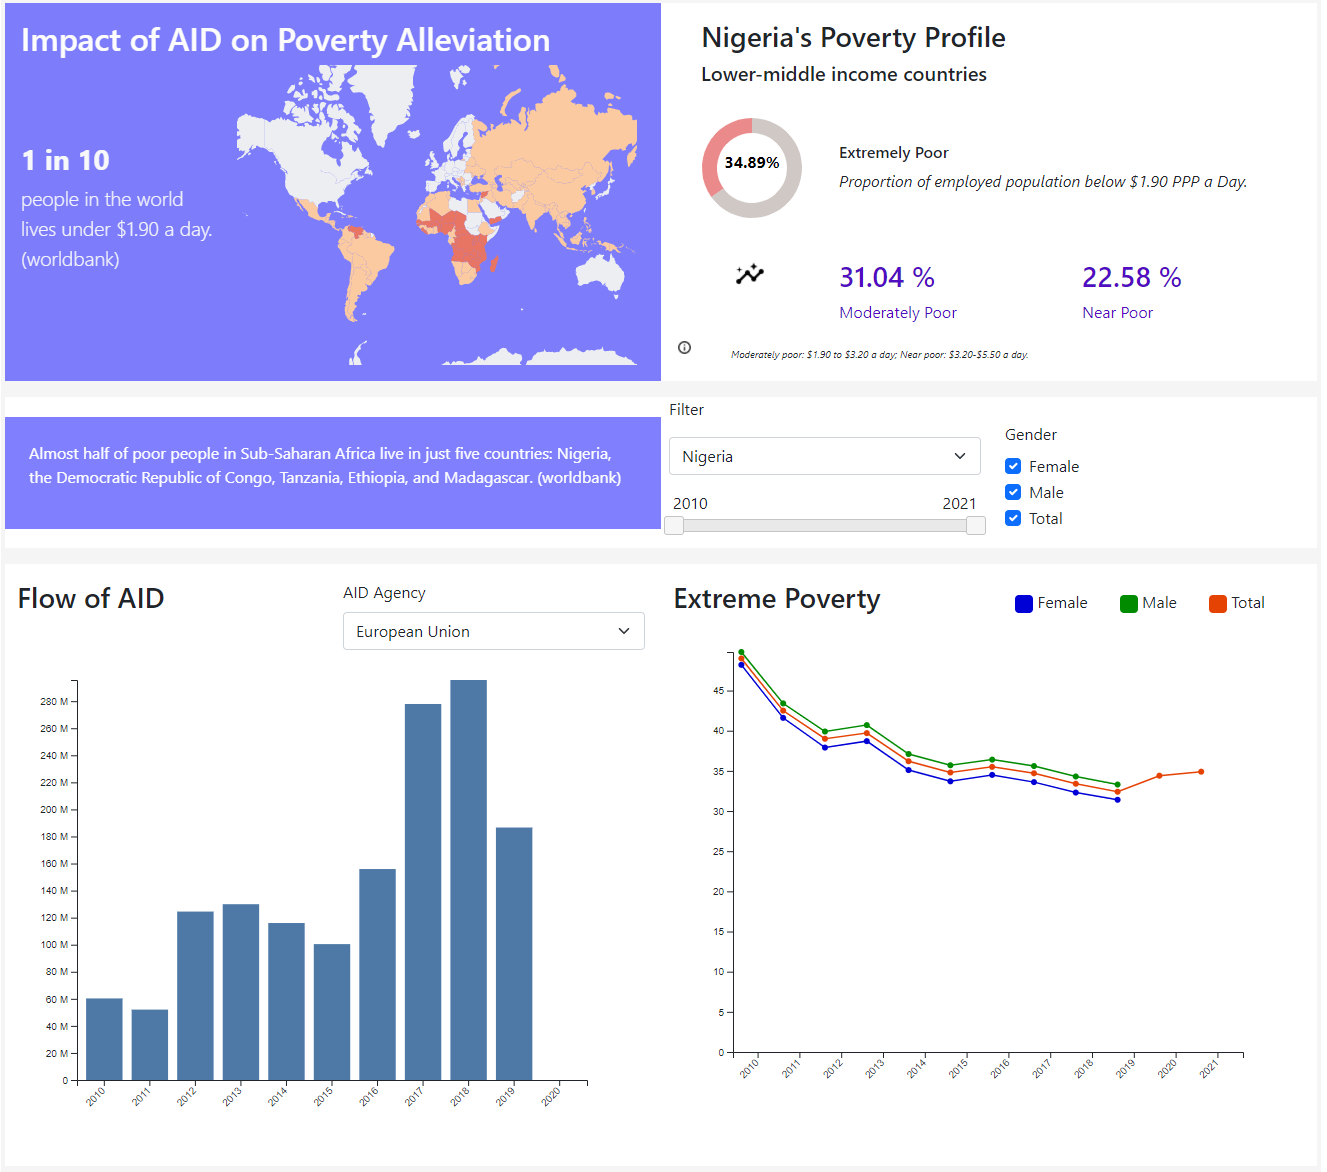

The page's visual inventory and layout, read from the dashboard file:
{"tool":"tableau","page":{"name":"Impact of AID on Poverty Alleviation ","canvas":[1024,768],"ordinal":0},"visuals":[{"type":"worksheet","title":"Country Name","mark":"Automatic","box":[557,17,420,77]},{"type":"text","box":[18,18,494,337]},{"type":"worksheet","title":"Income Group","mark":"Automatic","box":[560,60,341,49]},{"type":"text","box":[25,81,179,221]},{"type":"worksheet","title":"Poverty Cluster Map","mark":"Multipolygon","box":[177,89,328,263]},{"type":"worksheet","title":"Extremely poor","mark":"Pie","rows":["Calculation_752101156512694287","Calculation_752101156512694287"],"box":[533,114,150,114]},{"type":"text","box":[682,115,305,94]},{"type":"worksheet","title":"Moderately poor","mark":"Text","box":[690,243,166,66]},{"type":"worksheet","title":"Near Poor","mark":"Text","box":[864,243,125,73]},{"type":"image","param":"Image/outline_insights_black_24dp.png","box":[581,251,48,48]},{"type":"legend","title":"Poverty Cluster Map","param":"[federated.0k8glgh1azunar1cymi931qiu7fl].[Country (clusters)]","box":[418,285,88,63]},{"type":"text","box":[564,318,430,36]},{"type":"image","param":"Image/outline_info_black_24dp.png","box":[534,321,20,25]},{"type":"filter","title":"Extreme Poverty","param":"[federated.0k8glgh1azunar1cymi931qiu7fl].[none:Sex:nk]","box":[831,377,168,105]},{"type":"text","box":[24,381,490,96]},{"type":"filter","title":"Extreme Poverty","param":"[federated.0k8glgh1azunar1cymi931qiu7fl].[none:Country Name:nk]","box":[582,381,213,61]},{"type":"filter","title":"Extreme Poverty","param":"[federated.0k8glgh1azunar1cymi931qiu7fl].[none:Year:qk]","box":[581,440,217,39]},{"type":"worksheet","title":"Flow of AID","mark":"Bar","rows":["Calculation_752101156544925717"],"cols":["Year (AID.csv)"],"box":[8,493,511,267]},{"type":"worksheet","title":"Extreme Poverty","mark":"Automatic","cols":["Year"],"box":[519,493,497,267]},{"type":"parameter","param":"[Parameters].[Parameter 1]","box":[349,516,164,46]}]}

Visuals, with their boxes on the page's 1024x768 design canvas (x1, y1, x2, y2). These are canvas units, not pixel positions in the 1327x1172 screenshot, which may show the page scaled, cropped or inside an application window:
"Country Name" worksheet: bbox(557, 17, 977, 94)
text: bbox(18, 18, 512, 355)
"Income Group" worksheet: bbox(560, 60, 901, 109)
text: bbox(25, 81, 204, 302)
"Poverty Cluster Map" worksheet (Multipolygon marks): bbox(177, 89, 505, 352)
"Extremely poor" worksheet (Pie marks): bbox(533, 114, 683, 228)
text: bbox(682, 115, 987, 209)
"Moderately poor" worksheet (Text marks): bbox(690, 243, 856, 309)
"Near Poor" worksheet (Text marks): bbox(864, 243, 989, 316)
image: bbox(581, 251, 629, 299)
"Poverty Cluster Map" legend: bbox(418, 285, 506, 348)
text: bbox(564, 318, 994, 354)
image: bbox(534, 321, 554, 346)
"Extreme Poverty" filter: bbox(831, 377, 999, 482)
text: bbox(24, 381, 514, 477)
"Extreme Poverty" filter: bbox(582, 381, 795, 442)
"Extreme Poverty" filter: bbox(581, 440, 798, 479)
"Flow of AID" worksheet (Bar marks): bbox(8, 493, 519, 760)
"Extreme Poverty" worksheet: bbox(519, 493, 1016, 760)
parameter: bbox(349, 516, 513, 562)
